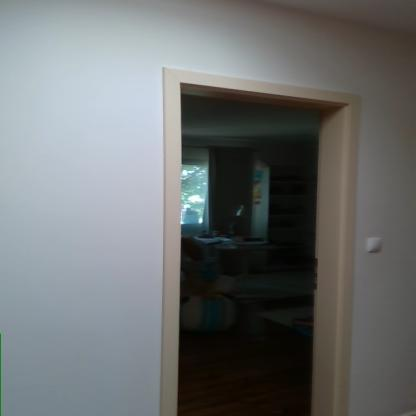open: (142, 58, 369, 416)
